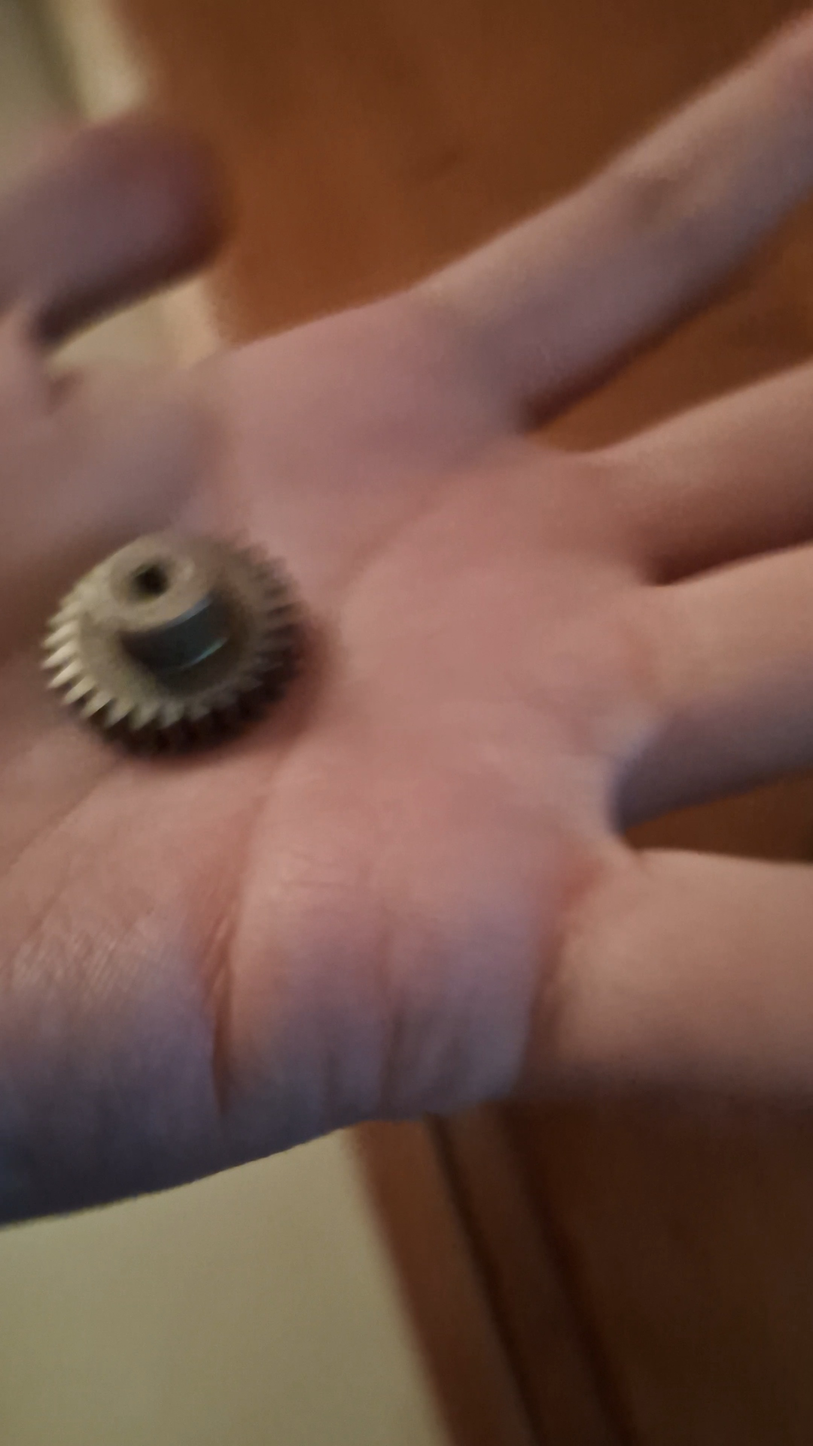spur gear: (44, 533, 300, 750)
